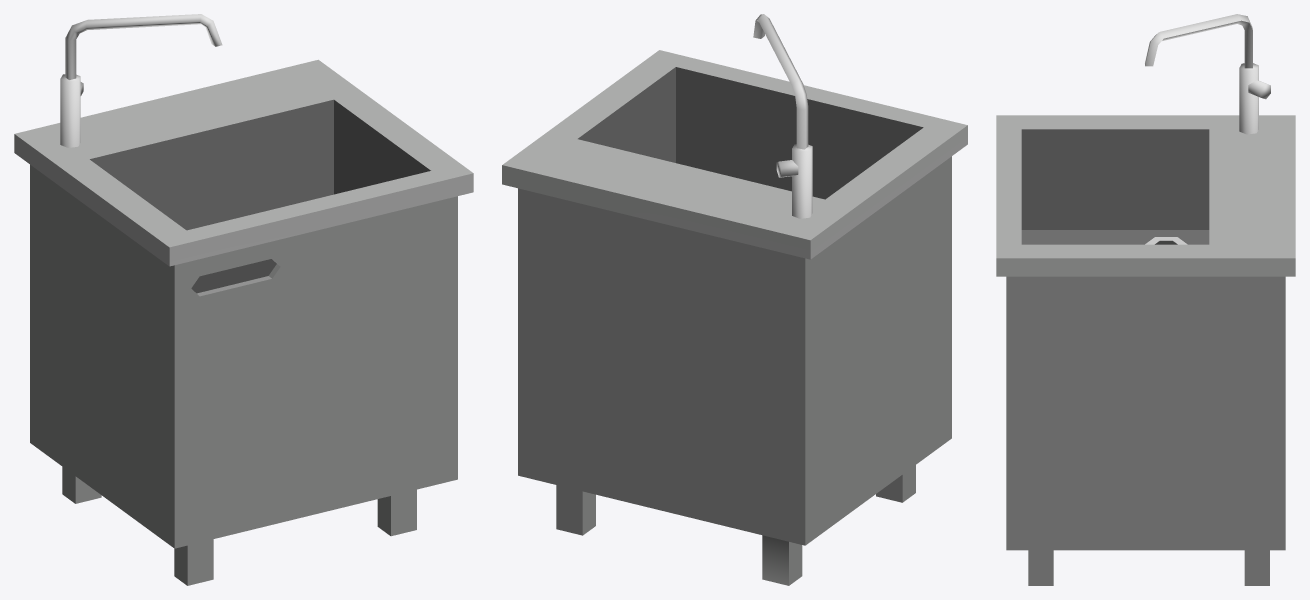
Rendered from SM_kitchen_sink_001.FBX.
3 renders of one model, left to right at view 1: azimuth 30°, elevation 25°; view 2: azimuth 150°, elevation 25°; view 3: azimuth 270°, elevation 25°, orthographic. The views are drawn at different scales.
Visible parts, largest first — view 1: SM_kitchen_sink_001; view 2: SM_kitchen_sink_001; view 3: SM_kitchen_sink_001.
Boxes of the visible parts, x1,y1,x2,y2 form: SM_kitchen_sink_001: (14, 14, 473, 585); SM_kitchen_sink_001: (502, 14, 967, 585); SM_kitchen_sink_001: (996, 14, 1295, 585).
Bounding box in the file's own units: 108 × 95.66 × 171.
